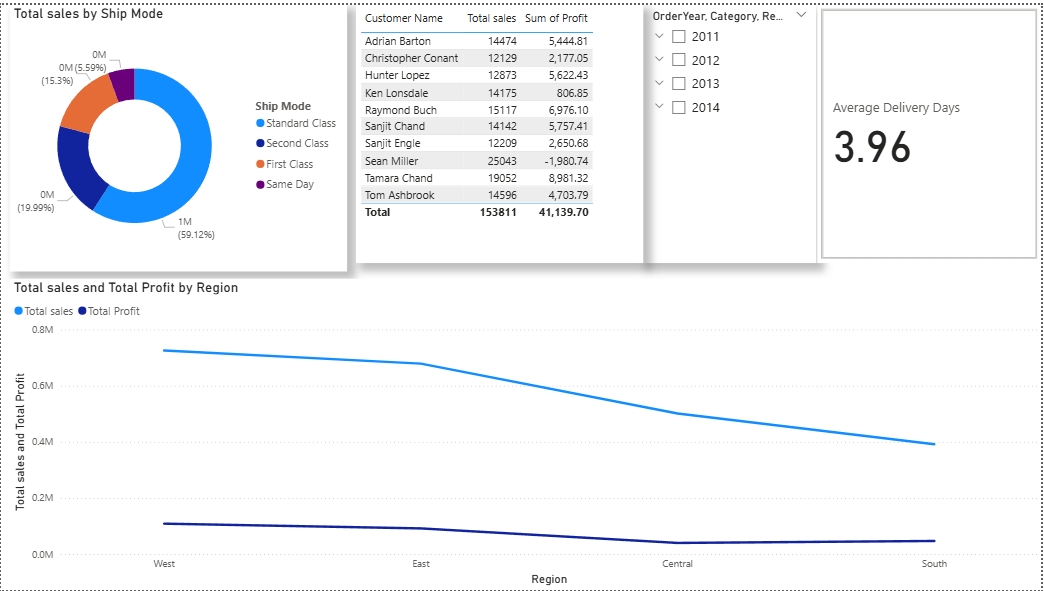

The page's visual inventory and layout, read from the dashboard file:
{"tool":"powerbi","page":{"name":"Page 2","canvas":[1280,720],"ordinal":2},"visuals":[{"type":"donutChart","fields":{"Y":["Dax.Total sales"],"Category":["Orders.Ship Mode"]},"box":[10,0,415.6,327.8],"z":0},{"type":"slicer","fields":{"Values":["Orders.OrderYear","Orders.Category","Orders.Region","Orders.Segment"]},"box":[789.9,0,214.5,317.4],"z":1},{"type":"tableEx","fields":{"Values":["Orders.Customer Name","Dax.Total sales","Orders.Profit"]},"box":[436.2,0,353.6,317.4],"z":2},{"type":"cardVisual","fields":{"Data":["Dax.Average Delivery Days"]},"box":[1004.3,0,275.4,317.4],"z":3},{"type":"lineChart","fields":{"Y":["Dax.Total sales","Dax.Total Profit"],"Category":["Orders.Region"]},"box":[10.1,337.7,1269.6,382.6],"z":4}]}

Visuals, with their boxes in screenshot pixels (x1, y1, x2, y2), scaled from the page's 1280x720 canvas onto the 1044x591 screenshot:
donutChart - Dax.Total sales x Orders.Ship Mode: bbox(8, 0, 347, 269)
slicer - Orders.OrderYear x Orders.Category: bbox(644, 0, 819, 261)
tableEx - Orders.Customer Name x Dax.Total sales: bbox(356, 0, 644, 261)
cardVisual - Dax.Average Delivery Days: bbox(819, 0, 1043, 261)
lineChart - Dax.Total sales x Dax.Total Profit: bbox(8, 277, 1043, 590)
